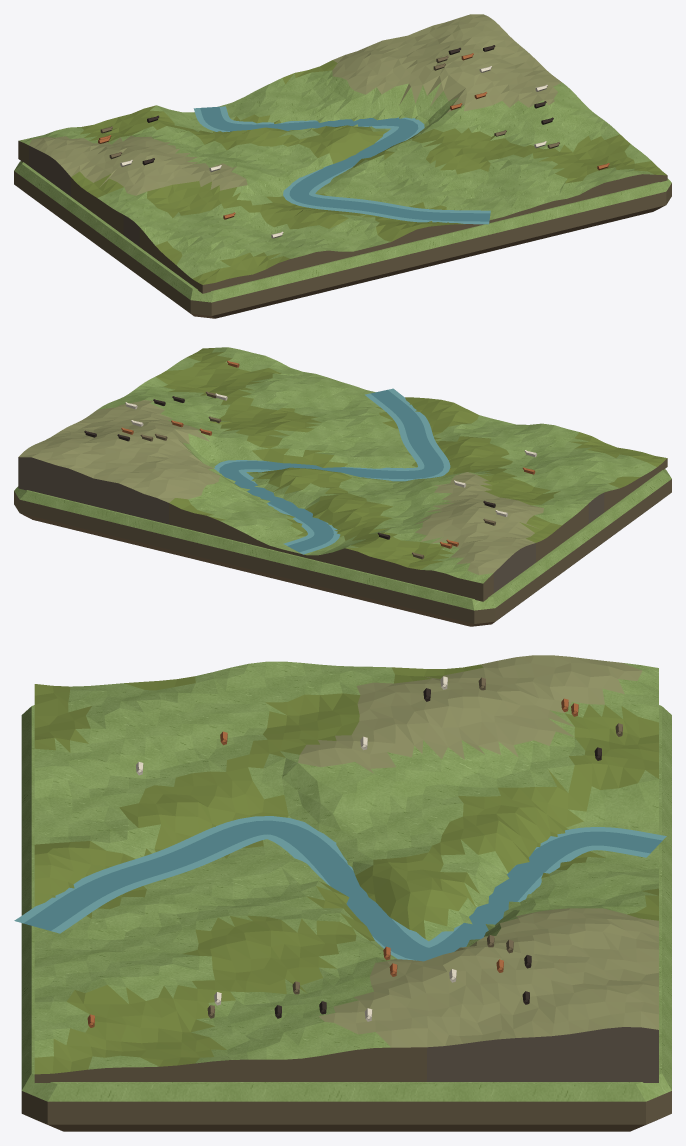
The model's file is hulunbuir.glb.
3 views of the same model, one above another, from view 1: azimuth 30°, elevation 25°; view 2: azimuth 150°, elevation 25°; view 3: azimuth 270°, elevation 25° (orthographic). The views are drawn at different scales.
Visible parts, largest first — view 1: 呼伦贝尔草原·莫尔格勒河; view 2: 呼伦贝尔草原·莫尔格勒河; view 3: 呼伦贝尔草原·莫尔格勒河.
Boxes of the visible parts, box(x1,y1,x2,y2) form: 呼伦贝尔草原·莫尔格勒河: box(14, 14, 671, 318); 呼伦贝尔草原·莫尔格勒河: box(14, 347, 671, 626); 呼伦贝尔草原·莫尔格勒河: box(14, 655, 671, 1131).
Size of the model in its own units: 6.15 by 0.8572 by 4.3.
Materials: 11 (2 with a texture image).
